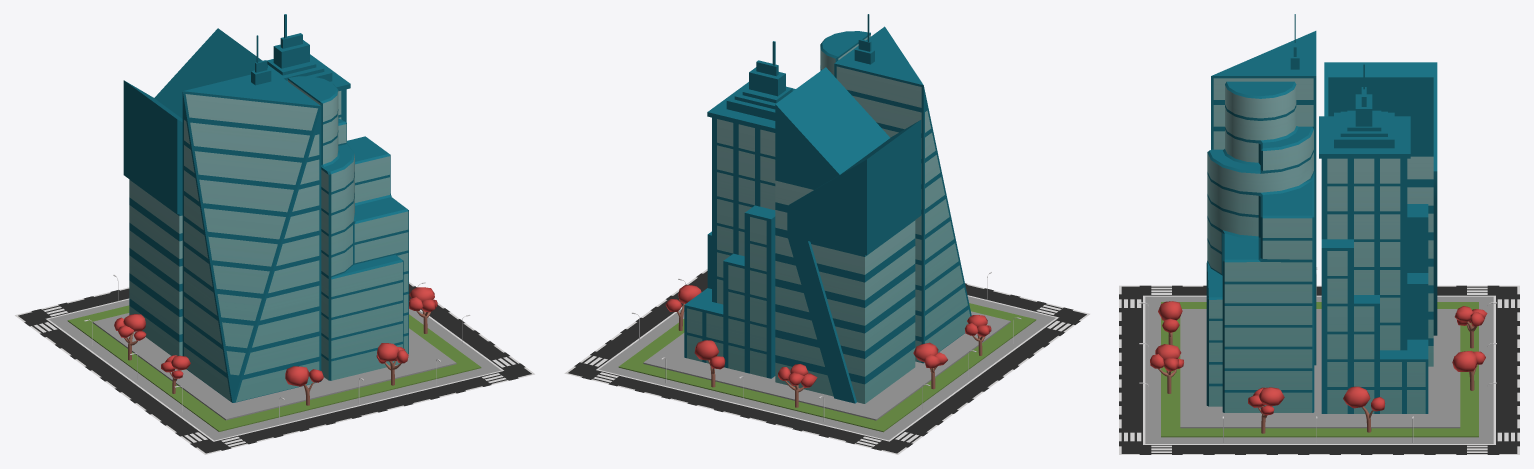
File: BusinessArea_Upgrade.fbx
The picture shows the model from 3 angles, left to right: view 1: azimuth 30°, elevation 25°; view 2: azimuth 150°, elevation 25°; view 3: azimuth 270°, elevation 25°; orthographic projection. The views are drawn at different scales.
Parts seen in each view (by area): view 1: BusinessArea_Upgrade; view 2: BusinessArea_Upgrade; view 3: BusinessArea_Upgrade.
Part boxes in pixels (bbox=[...]): BusinessArea_Upgrade: bbox=[15, 14, 534, 454]; BusinessArea_Upgrade: bbox=[564, 14, 1089, 454]; BusinessArea_Upgrade: bbox=[1119, 14, 1519, 454].
Bounding box in the file's own units: 1000 × 947 × 1000.
1 material, 1 textured.
